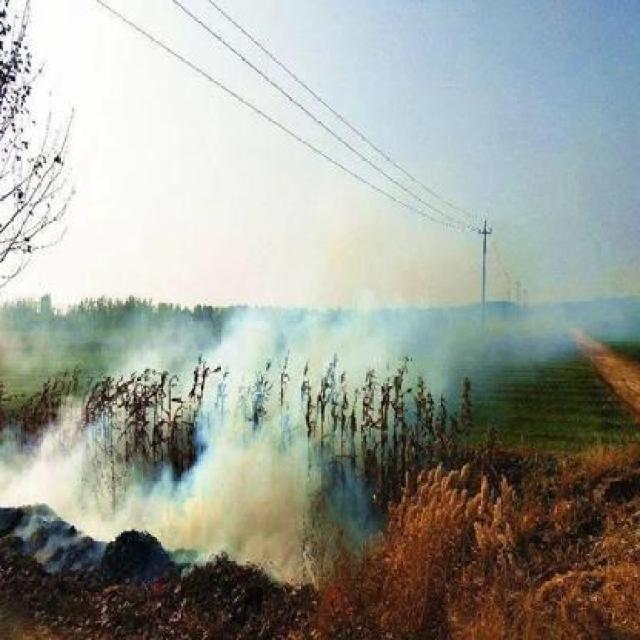Smoke: (0, 410, 321, 594), (142, 284, 594, 412)
